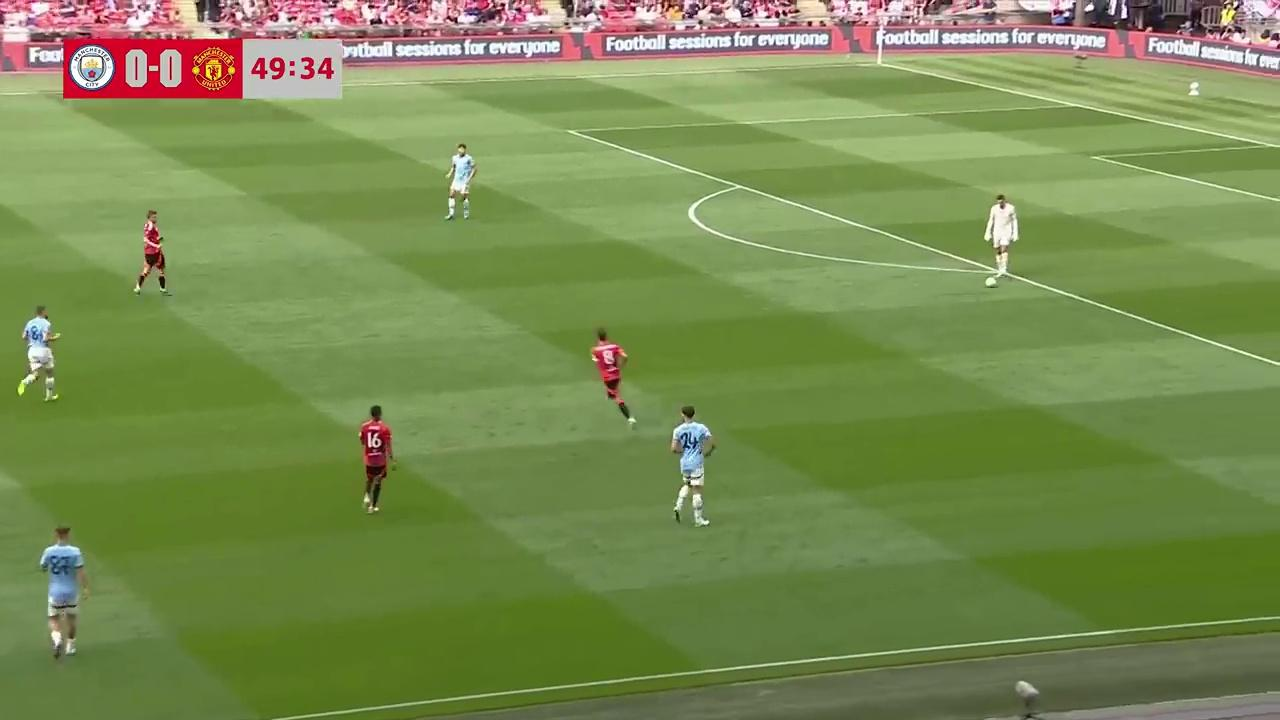ball: (983, 274, 996, 289)
player: (38, 525, 88, 660), (668, 405, 716, 527), (590, 327, 636, 429), (16, 305, 59, 401), (358, 404, 395, 513), (133, 209, 172, 298), (984, 194, 1018, 284), (444, 142, 476, 221)
